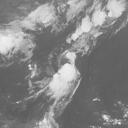cyclone: (47, 63, 83, 101)
